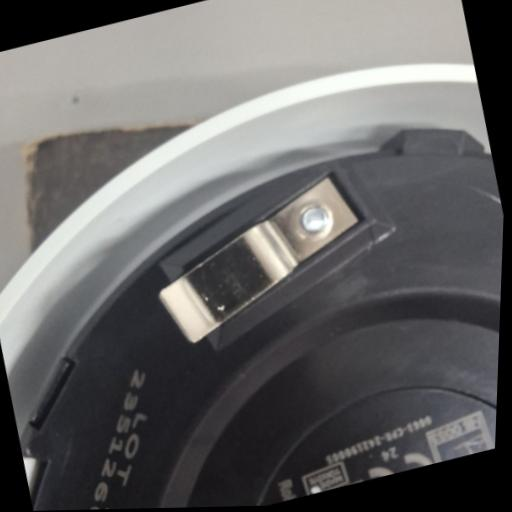yaysiz: (134, 165, 385, 355)
